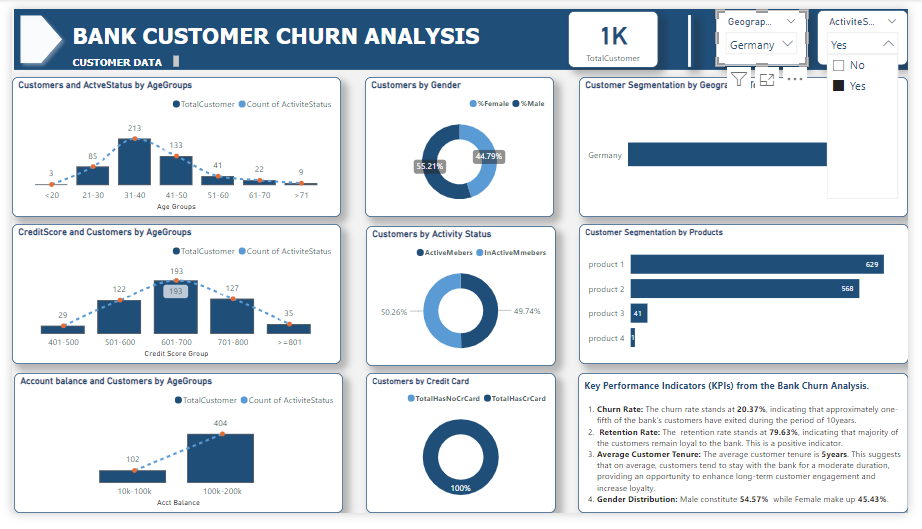

What the dashboard file says about the page in this screenshot:
{"tool":"powerbi","page":{"name":"Page 1","canvas":[1280,720],"ordinal":0},"visuals":[{"type":"shape","box":[2.9,0,1277.1,87.1],"z":0},{"type":"barChart","title":"Customer Segmentation by Geography (Top 5)","fields":{"Category":["Customer_Info.Geography"],"Y":["Customer_Info.TotalCustomer"]},"box":[810,97.1,470,200],"z":1000},{"type":"lineClusteredColumnComboChart","title":"Customers and ActveStatus by AgeGroups","fields":{"Y":["Customer_Info.TotalCustomer"],"Y2":["CountNonNull(Account_Info.IsActiveMember)"],"Category":["Age Group.Age Groups"]},"box":[0,97.8,470,199.8],"z":2000},{"type":"donutChart","title":"Customers by Gender ","fields":{"Y":["Customer_Info.%Female","Customer_Info.%Female","Customer_Info.%Male","Customer_Info.%Male"]},"box":[504.3,97.1,270,200],"z":3000},{"type":"slicer","fields":{"Values":["Customer_Info.Geography"]},"box":[1006.3,1.4,130.4,79.4],"z":5000},{"type":"card","fields":{"Values":["Customer_Info.TotalCustomer"]},"box":[794.3,2.9,128.6,81.4],"z":6000},{"type":"donutChart","title":"Customers by Activity Status","fields":{"Y":["Account_Info.TotalActiveMmebers","Account_Info.TotalIsNotActiveMmebers"]},"box":[506.1,310.4,270.7,199.8],"z":7000},{"type":"donutChart","title":"Customers by Credit Card","fields":{"Y":["Account_Info.TotalHasNoCrCard","Account_Info.TotalHasNoCrCard","Account_Info.TotalHasCrCard"]},"box":[505.7,520.2,270.7,199.8],"z":8000},{"type":"barChart","title":"Customer Segmentation by Products","fields":{"Y":["Customer_Info.TotalCustomer"],"Category":["Account_Info.Products"]},"box":[809.4,307.6,470.6,199.8],"z":9000},{"type":"lineClusteredColumnComboChart","title":"CreditScore and Customers by AgeGroups","fields":{"Y":["Customer_Info.TotalCustomer"],"Y2":["CountNonNull(Account_Info.IsActiveMember)"],"Category":["CreditScoreGroup.Credit Score Group"]},"box":[0,307.6,470,199.8],"z":10000},{"type":"lineClusteredColumnComboChart","title":"Account balance and Customers by AgeGroups","fields":{"Y":["Customer_Info.TotalCustomer"],"Y2":["CountNonNull(Account_Info.IsActiveMember)"],"Category":["Acct Balance.Acct Balance"]},"box":[2.8,520.2,470,199.8],"z":11000},{"type":"slicer","fields":{"Values":["Account_Info.ActiviteStatus"]},"box":[1149.4,1.4,130.4,79.4],"z":12000},{"type":"textbox","box":[80.8,12.8,612.3,68],"z":13000},{"type":"textbox","box":[808,520,472,200],"z":14000},{"type":"shape","box":[2.8,0,78,86.5],"z":15000},{"type":"shape","box":[961.4,8.6,12.9,74.3],"z":16000},{"type":"textbox","box":[80.8,60.9,161.6,26.9],"z":18000}]}

Visuals, with their boxes on the page's 1280x720 design canvas (x1, y1, x2, y2). These are canvas units, not pixel positions in the 922x529 screenshot, which may show the page scaled, cropped or inside an application window:
shape: Rect(3, 0, 1280, 87)
"Customer Segmentation by Geography (Top 5)" barChart: Rect(810, 97, 1280, 297)
"Customers and ActveStatus by AgeGroups" lineClusteredColumnComboChart: Rect(0, 98, 470, 298)
"Customers by Gender " donutChart: Rect(504, 97, 774, 297)
slicer - Customer_Info.Geography: Rect(1006, 1, 1137, 81)
card - Customer_Info.TotalCustomer: Rect(794, 3, 923, 84)
"Customers by Activity Status" donutChart: Rect(506, 310, 777, 510)
"Customers by Credit Card" donutChart: Rect(506, 520, 776, 720)
"Customer Segmentation by Products" barChart: Rect(809, 308, 1280, 507)
"CreditScore and Customers by AgeGroups" lineClusteredColumnComboChart: Rect(0, 308, 470, 507)
"Account balance and Customers by AgeGroups" lineClusteredColumnComboChart: Rect(3, 520, 473, 720)
slicer - Account_Info.ActiviteStatus: Rect(1149, 1, 1280, 81)
textbox: Rect(81, 13, 693, 81)
textbox: Rect(808, 520, 1280, 720)
shape: Rect(3, 0, 81, 86)
shape: Rect(961, 9, 974, 83)
textbox: Rect(81, 61, 242, 88)
